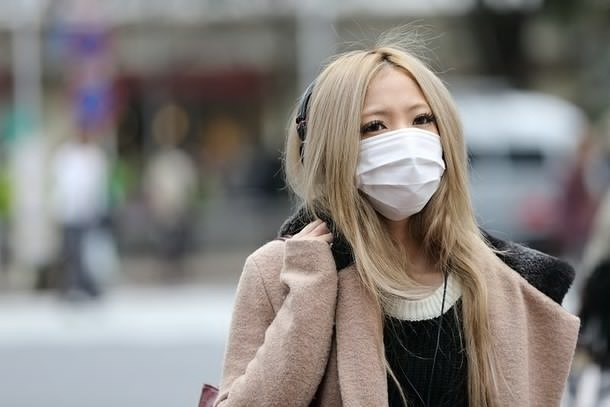face_with_mask: (294, 41, 459, 223)
